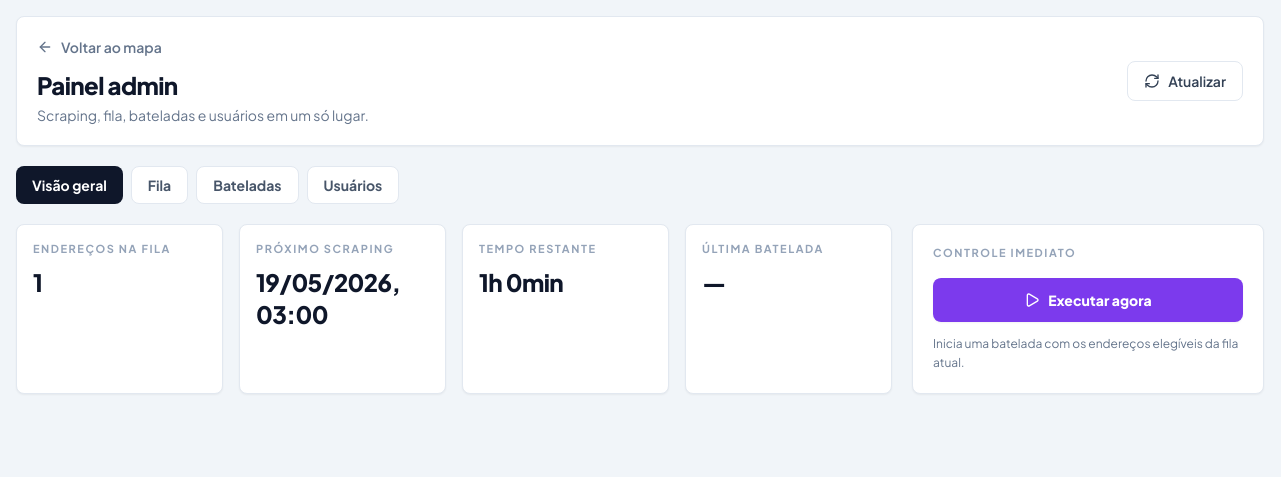
Test: ScrapingAdminPage › executa scraping agora e mostra aviso de batelada criada
Click the button "Executar agora".
click(1088, 300)  # box [933, 278, 1243, 322]
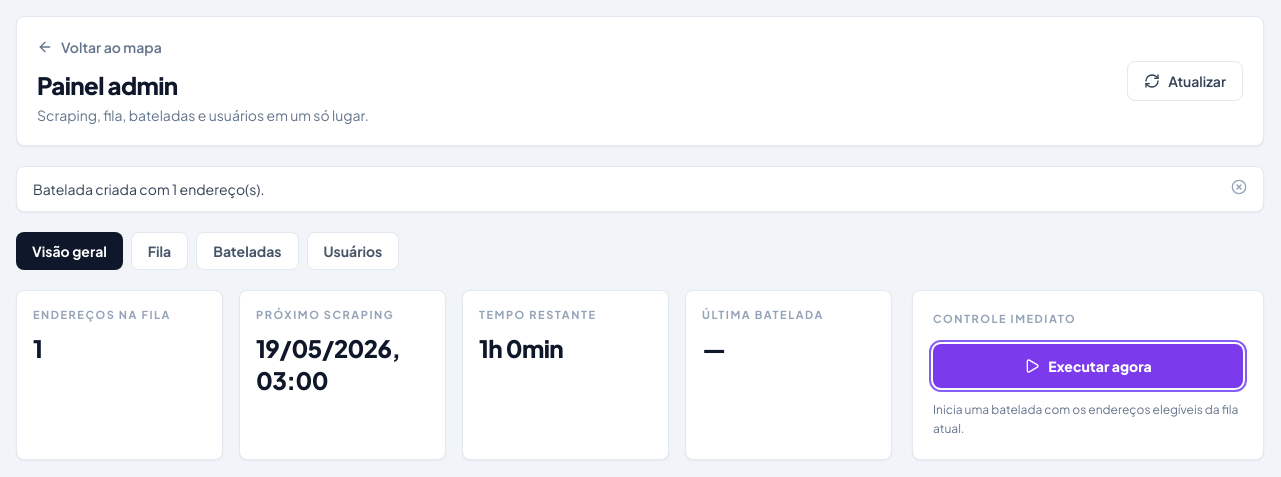
Now the text "Batelada criada com 1 endereço(s)." is shown, box [33, 179, 264, 199]
